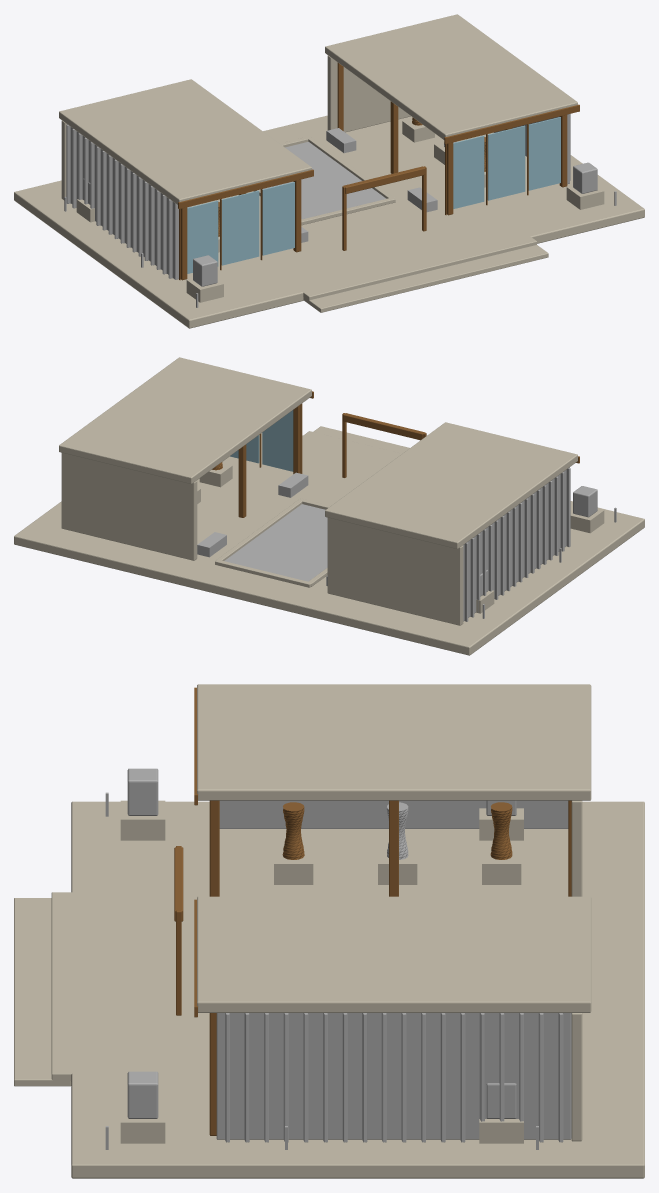
Rendered from confluence.glb.
3 renders of one model, top to bottom at view 1: azimuth 30°, elevation 25°; view 2: azimuth 150°, elevation 25°; view 3: azimuth 270°, elevation 25°, orthographic. The views are drawn at different scales.
Parts seen in each view (by area): view 1: g2O300dVo1U9xkYdvLPFDrp, g2tLyeKUnzLjf6A__HdBd3Mq, g2HE_rf1_TOhPV1nVXvHq0e, g1Zy7Vqb6DQbfMVOJFc__309, g3Tsms1R4HKDgy6DPjwwkyM, g1PeTZ4ZijRKRUJWCdd6nTd, g2bKlh_309RQ9IQ6jjhYVtH, g02dq__7pHDNoPF7Bw__zVpNZ, g2DqCvGQavNLfJ77LbcEP2P, g0Kt7qGd21TeRxng6ZOZIMQ, g0W4uXhjgDQhg6WiuZRXc4R, g2GA8ewTqbGVgQmTbGn1Tk5 (+20 smaller); view 2: g2O300dVo1U9xkYdvLPFDrp, g2tLyeKUnzLjf6A__HdBd3Mq, g2HE_rf1_TOhPV1nVXvHq0e, g21p2OkTS9R4fkwdFt4a_KC, g2bKlh_309RQ9IQ6jjhYVtH, g1PeTZ4ZijRKRUJWCdd6nTd, g1Zy7Vqb6DQbfMVOJFc__309, g1NoYXbZazIYhcFiQs__ufs1, g0Kt7qGd21TeRxng6ZOZIMQ, g1WFZR__p81Hbf8FxlYvRLOZ, g3Tsms1R4HKDgy6DPjwwkyM, g2hFiFjJXnMaxUI__WlN6lG6 (+8 smaller); view 3: g2O300dVo1U9xkYdvLPFDrp, g2tLyeKUnzLjf6A__HdBd3Mq, g2HE_rf1_TOhPV1nVXvHq0e, g0ZKrp_jJfQlg_vl929R2r2, g1Zy7Vqb6DQbfMVOJFc__309, g3Tsms1R4HKDgy6DPjwwkyM, g0Kt7qGd21TeRxng6ZOZIMQ, g2bKlh_309RQ9IQ6jjhYVtH, g2hFiFjJXnMaxUI__WlN6lG6, g2HTEdH0ajRmRK30k__ZSSfY, g2UlQUE3cjJO8zEp2ZrdGbe, g23pQJ7XuHM_At03DuII58J (+23 smaller).
Boxes of the visible parts, left/top/right/bottom form: g2O300dVo1U9xkYdvLPFDrp: left=14, top=115, right=644, bottom=328; g2tLyeKUnzLjf6A__HdBd3Mq: left=325, top=14, right=577, bottom=139; g2HE_rf1_TOhPV1nVXvHq0e: left=59, top=79, right=311, bottom=204; g1Zy7Vqb6DQbfMVOJFc__309: left=67, top=124, right=178, bottom=279; g3Tsms1R4HKDgy6DPjwwkyM: left=303, top=245, right=548, bottom=312; g1PeTZ4ZijRKRUJWCdd6nTd: left=262, top=141, right=386, bottom=219; g2bKlh_309RQ9IQ6jjhYVtH: left=327, top=55, right=410, bottom=132; g02dq__7pHDNoPF7Bw__zVpNZ: left=221, top=190, right=259, bottom=265; g2DqCvGQavNLfJ77LbcEP2P: left=487, top=125, right=525, bottom=200; g0Kt7qGd21TeRxng6ZOZIMQ: left=302, top=234, right=536, bottom=300; g0W4uXhjgDQhg6WiuZRXc4R: left=262, top=182, right=294, bottom=255; g2GA8ewTqbGVgQmTbGn1Tk5: left=528, top=117, right=560, bottom=190; g2O300dVo1U9xkYdvLPFDrp: left=14, top=433, right=644, bottom=655; g2tLyeKUnzLjf6A__HdBd3Mq: left=59, top=357, right=311, bottom=484; g2HE_rf1_TOhPV1nVXvHq0e: left=325, top=422, right=577, bottom=548; g21p2OkTS9R4fkwdFt4a_KC: left=327, top=517, right=463, bottom=625; g2bKlh_309RQ9IQ6jjhYVtH: left=61, top=453, right=197, bottom=560; g1PeTZ4ZijRKRUJWCdd6nTd: left=224, top=504, right=327, bottom=581; g1Zy7Vqb6DQbfMVOJFc__309: left=463, top=467, right=569, bottom=621; g1NoYXbZazIYhcFiQs__ufs1: left=262, top=410, right=293, bottom=471; g0Kt7qGd21TeRxng6ZOZIMQ: left=302, top=431, right=401, bottom=461; g1WFZR__p81Hbf8FxlYvRLOZ: left=343, top=413, right=424, bottom=440; g3Tsms1R4HKDgy6DPjwwkyM: left=313, top=426, right=409, bottom=453; g2hFiFjJXnMaxUI__WlN6lG6: left=573, top=486, right=597, bottom=517; g2O300dVo1U9xkYdvLPFDrp: left=71, top=801, right=644, bottom=1178; g2tLyeKUnzLjf6A__HdBd3Mq: left=197, top=896, right=591, bottom=1012; g2HE_rf1_TOhPV1nVXvHq0e: left=197, top=684, right=591, bottom=800; g0ZKrp_jJfQlg_vl929R2r2: left=216, top=1013, right=571, bottom=1139; g1Zy7Vqb6DQbfMVOJFc__309: left=219, top=800, right=568, bottom=828; g3Tsms1R4HKDgy6DPjwwkyM: left=14, top=898, right=71, bottom=1086; g0Kt7qGd21TeRxng6ZOZIMQ: left=51, top=892, right=86, bottom=1080; g2bKlh_309RQ9IQ6jjhYVtH: left=571, top=1013, right=582, bottom=1141; g2hFiFjJXnMaxUI__WlN6lG6: left=127, top=768, right=158, bottom=815; g2HTEdH0ajRmRK30k__ZSSfY: left=127, top=1071, right=158, bottom=1118; g2UlQUE3cjJO8zEp2ZrdGbe: left=120, top=800, right=165, bottom=840; g23pQJ7XuHM_At03DuII58J: left=120, top=1103, right=165, bottom=1143.
Bounding box in the file's own units: 24 × 4.75 × 17.6.
